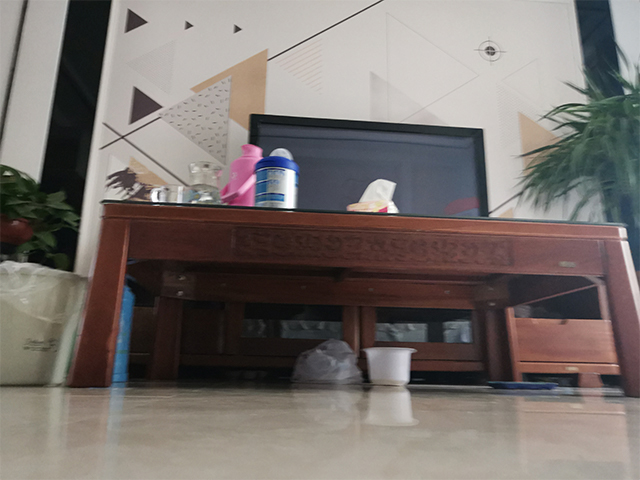table: (64, 197, 640, 400)
trashcan: (1, 258, 94, 389)
